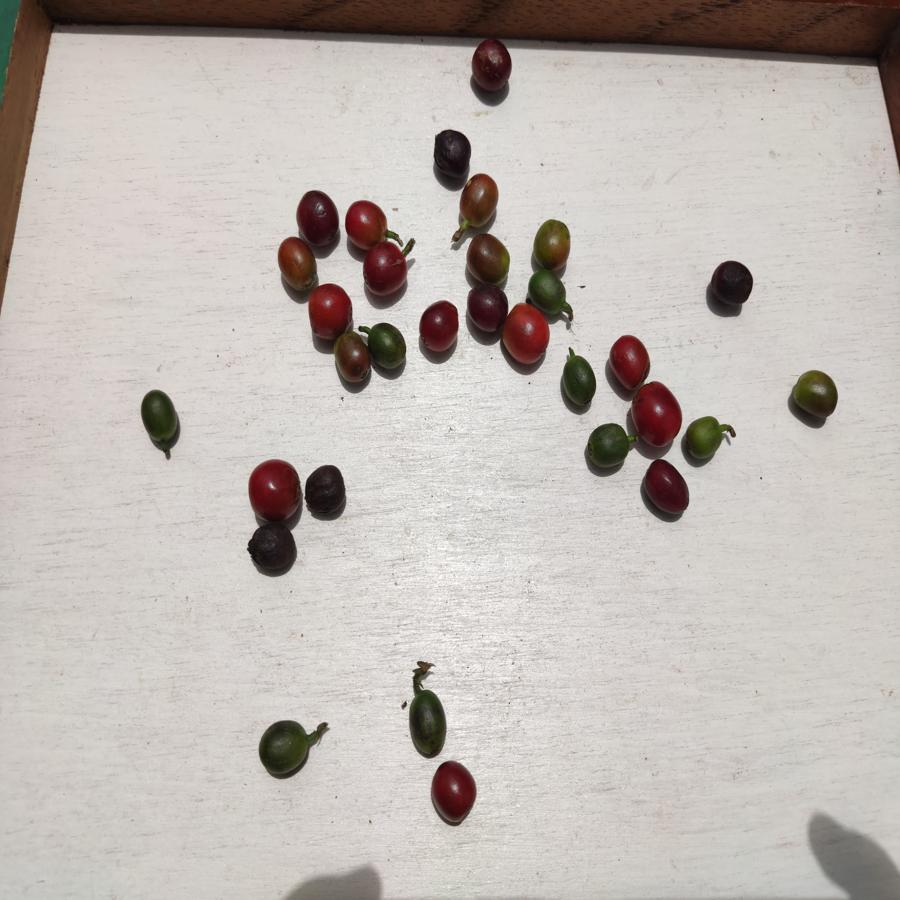Inmaduro: (257, 717, 316, 781), (136, 385, 184, 449), (582, 419, 632, 472), (409, 686, 448, 753), (369, 317, 413, 375), (680, 417, 728, 467), (560, 354, 598, 413), (528, 273, 569, 315)
Maduro: (245, 459, 303, 520), (631, 382, 684, 444), (503, 303, 550, 366), (607, 333, 657, 387), (306, 285, 356, 334), (344, 198, 394, 244)
Pinton: (790, 369, 839, 424), (467, 231, 514, 282), (461, 172, 500, 228), (535, 214, 573, 268), (277, 235, 317, 286), (330, 335, 369, 386)
Sobremaduro: (427, 760, 479, 827), (643, 458, 691, 519), (247, 522, 299, 576), (470, 38, 513, 97), (296, 189, 340, 246), (416, 298, 459, 356), (708, 259, 758, 308), (360, 248, 409, 297), (306, 464, 347, 518), (430, 129, 473, 177), (464, 285, 501, 334)
